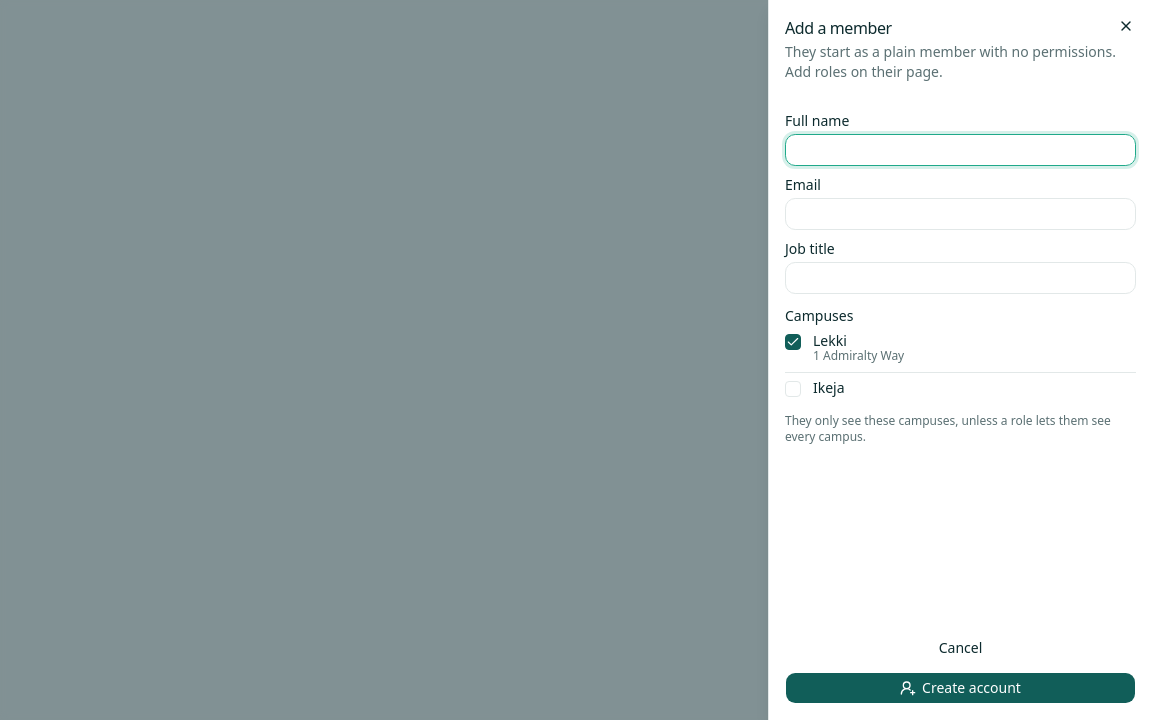
Test: AddMemberSheet › shows the inline validation messages and sends nothing
Click the checkbox named "Lekki" next to "Lekki". click: {"x": 793, "y": 342}
box: x1=785 y1=334 x2=801 y2=350
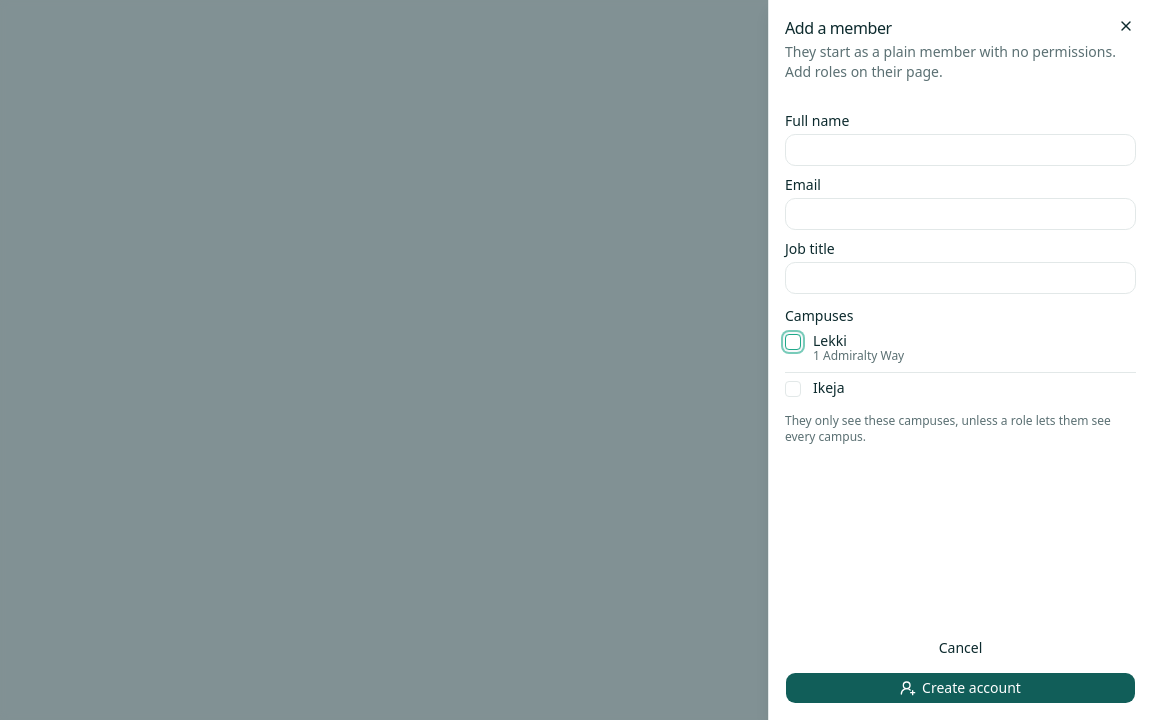
Click the button "Create account". click: {"x": 960, "y": 688}
box: x1=785 y1=672 x2=1136 y2=704
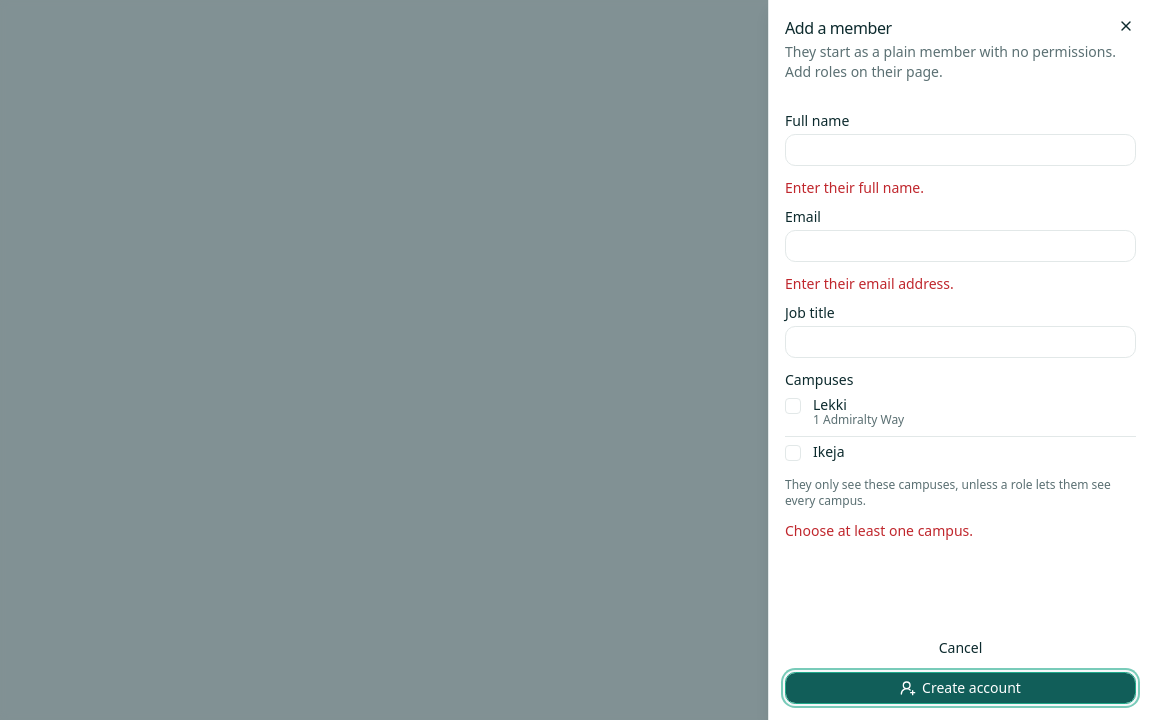
Check: the text "Enter their full name." is shown, box x1=785 y1=178 x2=924 y2=197
Check: the text "Enter their email address." is shown, box x1=785 y1=274 x2=954 y2=293
Check: the text "Choose at least one campus." is shown, box x1=785 y1=521 x2=973 y2=540
